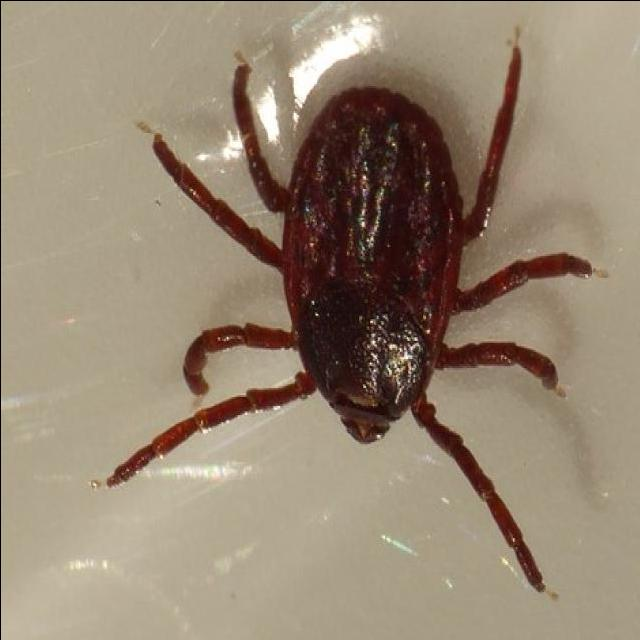Rhipicephalus Sanguineus-F: (102, 40, 594, 589)
